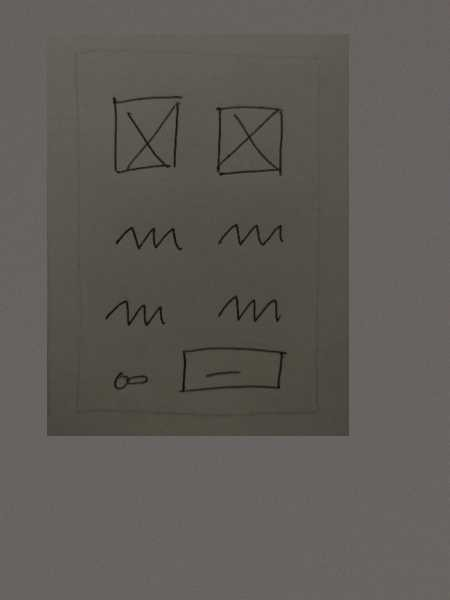button: (173, 341, 290, 400)
image: (103, 89, 190, 175), (206, 96, 289, 181)
switch: (103, 363, 157, 396)
text: (208, 284, 287, 332), (210, 213, 288, 259), (107, 215, 186, 260), (95, 290, 173, 333)
